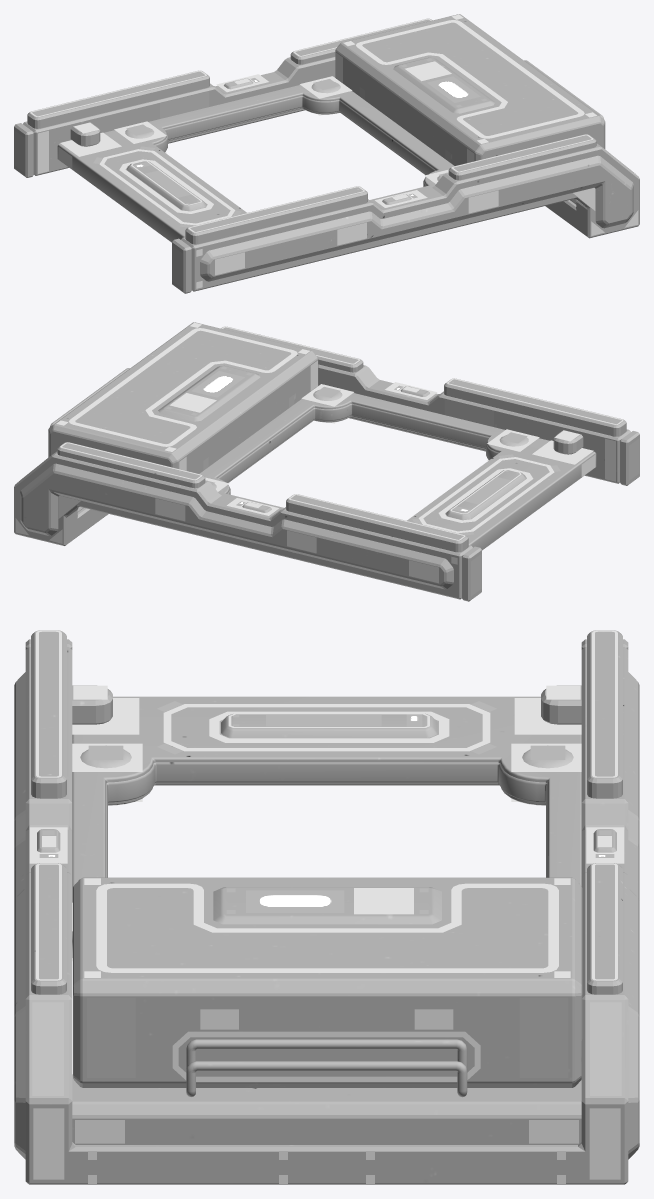
Rendered from SM_RoofConnector_5_Merged.fbx.
3 renders of one model, top to bottom at view 1: azimuth 30°, elevation 25°; view 2: azimuth 150°, elevation 25°; view 3: azimuth 270°, elevation 25°, orthographic. The views are drawn at different scales.
Parts seen in each view (by area): view 1: SM_RoofConnector_5_Merged_LOD0; view 2: SM_RoofConnector_5_Merged_LOD0; view 3: SM_RoofConnector_5_Merged_LOD0.
Boxes of the visible parts, bbox=[...] form: SM_RoofConnector_5_Merged_LOD0: bbox=[14, 14, 639, 293]; SM_RoofConnector_5_Merged_LOD0: bbox=[14, 322, 639, 601]; SM_RoofConnector_5_Merged_LOD0: bbox=[14, 630, 639, 1184].
Bounding box in the file's own units: 189 × 125 × 41.8.
